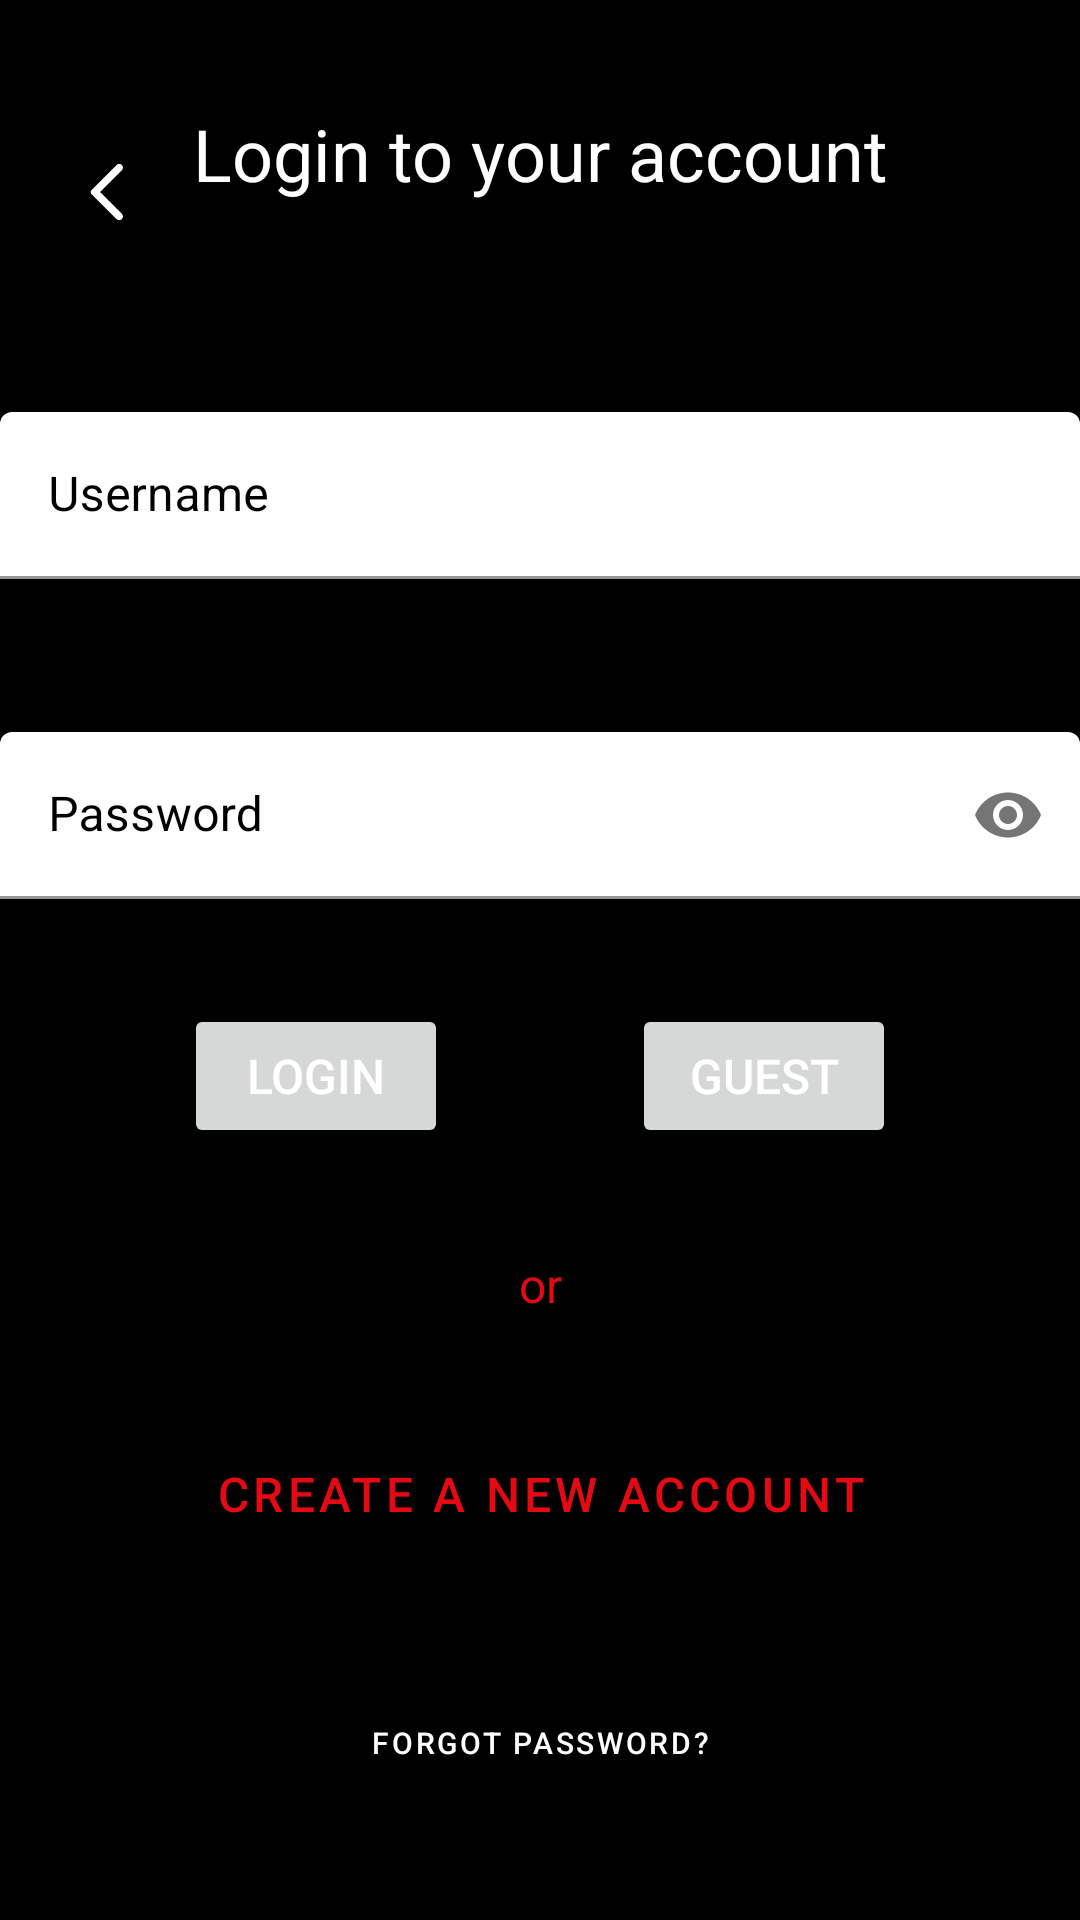

Icon bounding boxes for this 1080x1920 phone screenshot, format box(x1, y1, x2, y2):
arrow back: box(90, 164, 123, 221)
